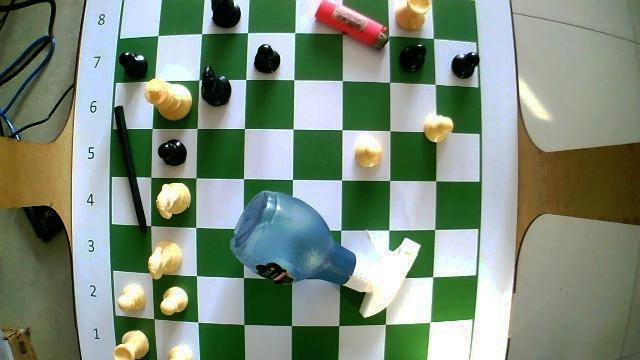piece: (145, 79, 190, 120), (148, 241, 179, 279), (156, 183, 189, 218), (201, 66, 229, 105), (114, 330, 148, 359), (396, 0, 429, 29), (116, 283, 145, 311), (423, 115, 452, 142), (211, 0, 239, 27), (119, 52, 148, 78), (160, 287, 187, 314), (451, 52, 478, 78), (158, 140, 186, 165), (400, 45, 426, 71), (254, 45, 279, 72), (355, 141, 379, 167)
